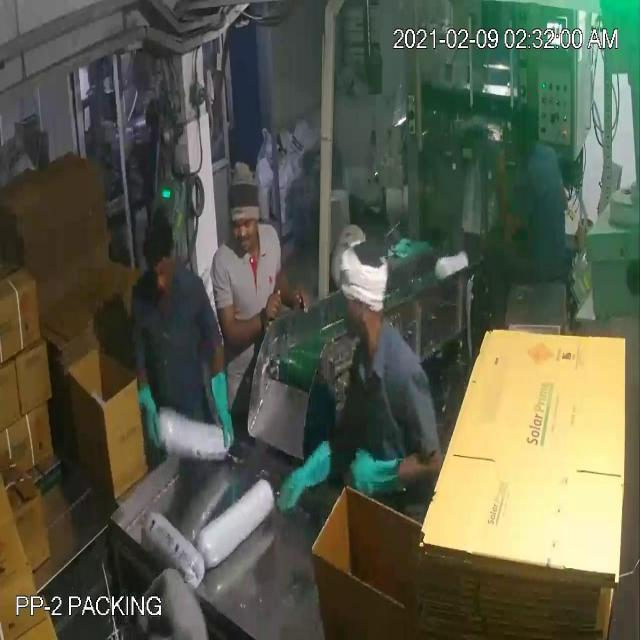No_Gloves: (34, 54, 508, 476)
